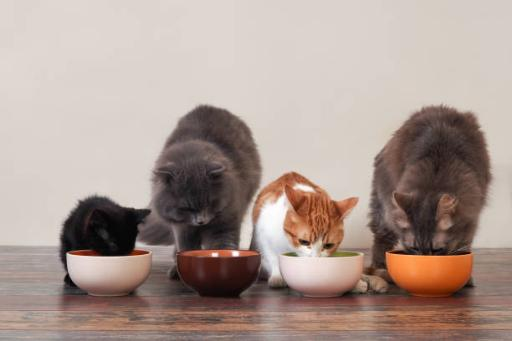cat_eating: (151, 106, 489, 296), (62, 197, 151, 295)
